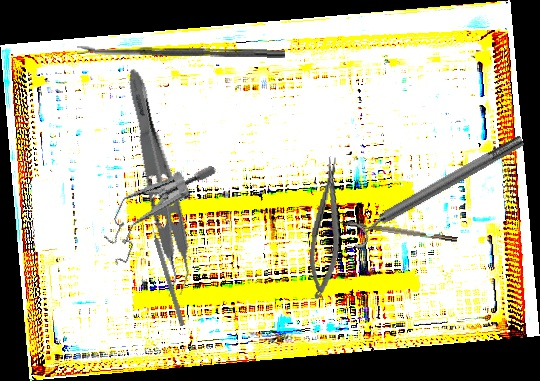Chopper: (331, 217, 458, 249)
Fixation Ring: (342, 127, 531, 251)
Hook Surgical: (147, 218, 186, 327)
Needle Holder: (302, 155, 352, 302)
Speculum: (93, 136, 219, 288)
Surgical Spoon: (76, 45, 286, 58)
Tissue Forceps: (107, 65, 204, 299)
